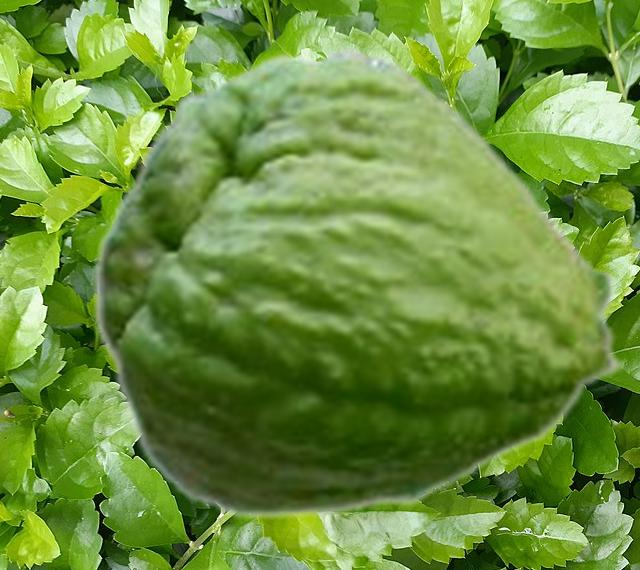sayote: (92, 46, 627, 521)
